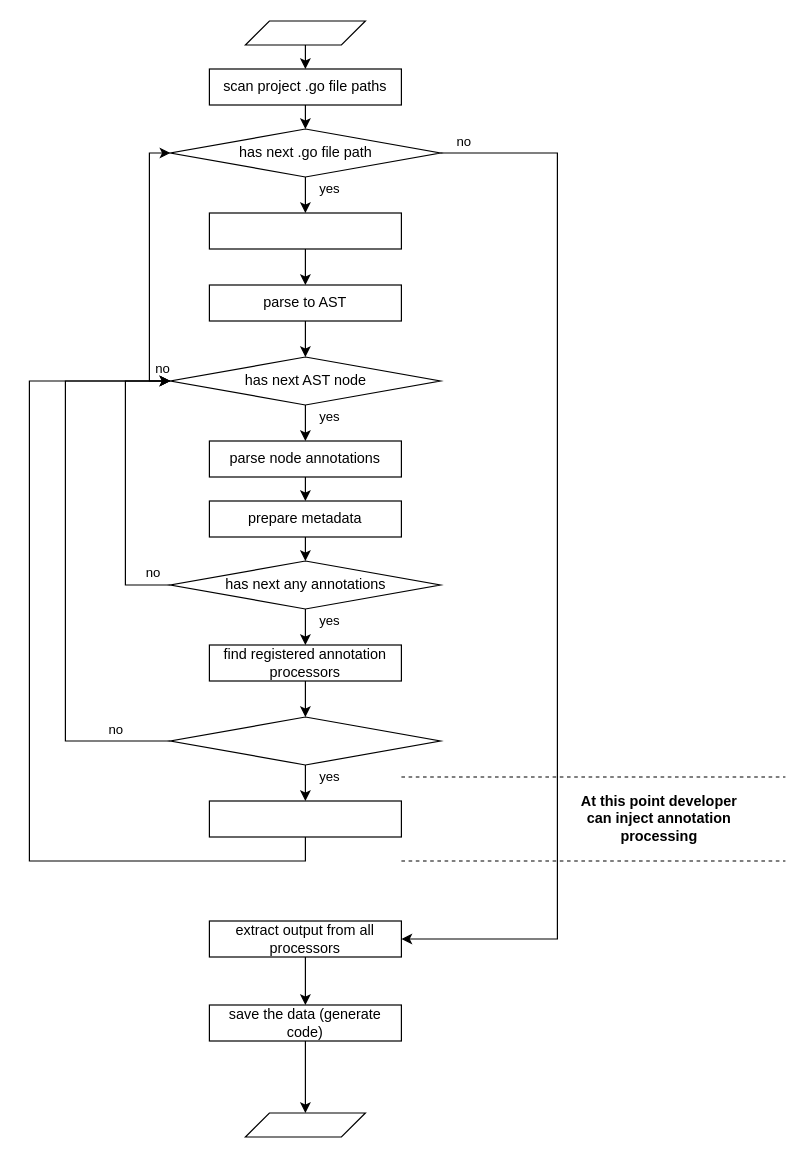
The diagram is 808 pixels wide and 1158 high, and some of its shapes have lost their labels. The shapes that lost their labels are listed below. From the top down, each one's box as (x1, y1, x2, y2) in pixels, then its label:
(244, 20, 365, 45): Begin
(208, 212, 401, 249): load .go file
(169, 716, 440, 765): has any annotation processor
(208, 800, 401, 837): execute processor with metadata
(244, 1112, 365, 1137): End
